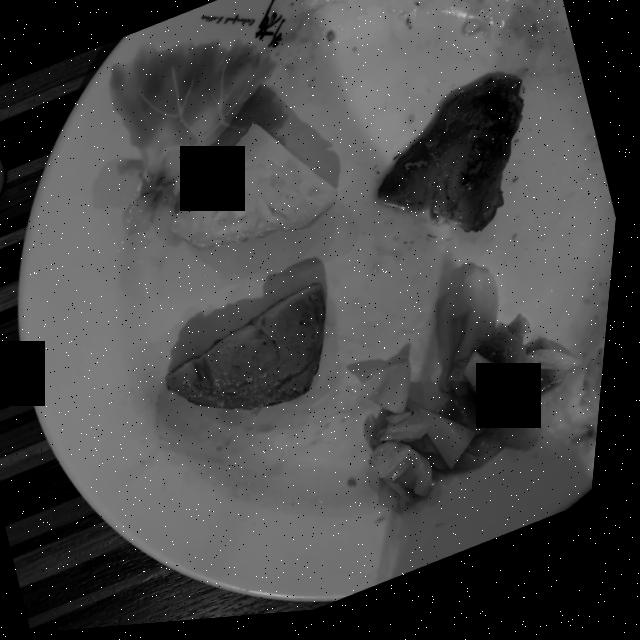Kabayaki sea bream fillet: (382, 85, 526, 239)
cabbage: (358, 275, 585, 519)
coin: (0, 155, 8, 199)
creamy tofu: (173, 288, 332, 414)
pineapple: (176, 128, 342, 252)
